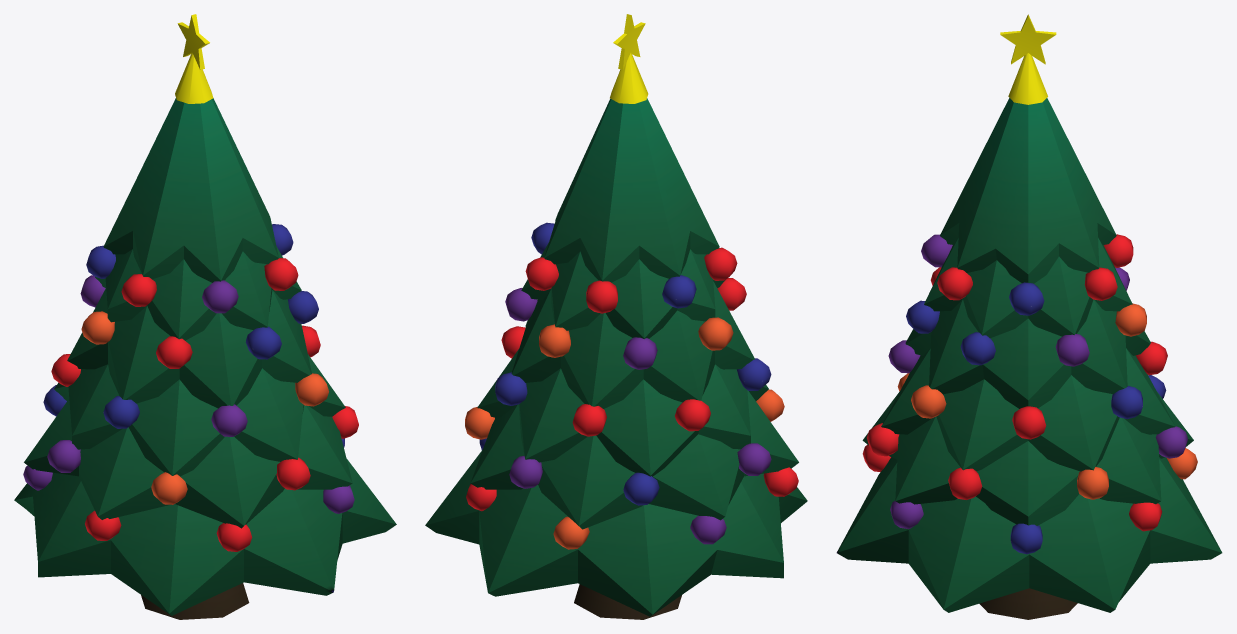
File: MM_ChristmasTree.fbx
The picture shows the model from 3 angles, left to right: view 1: azimuth 30°, elevation 25°; view 2: azimuth 150°, elevation 25°; view 3: azimuth 270°, elevation 25°; orthographic projection.
Visible parts, largest first — view 1: MM_ChristmasTree; view 2: MM_ChristmasTree; view 3: MM_ChristmasTree.
Part boxes in pixels (box(x1,y1,x2,y2)): MM_ChristmasTree: box(14, 14, 396, 619); MM_ChristmasTree: box(425, 14, 807, 619); MM_ChristmasTree: box(836, 14, 1222, 619).
Size of the model in its own units: 145 by 255 by 154.
